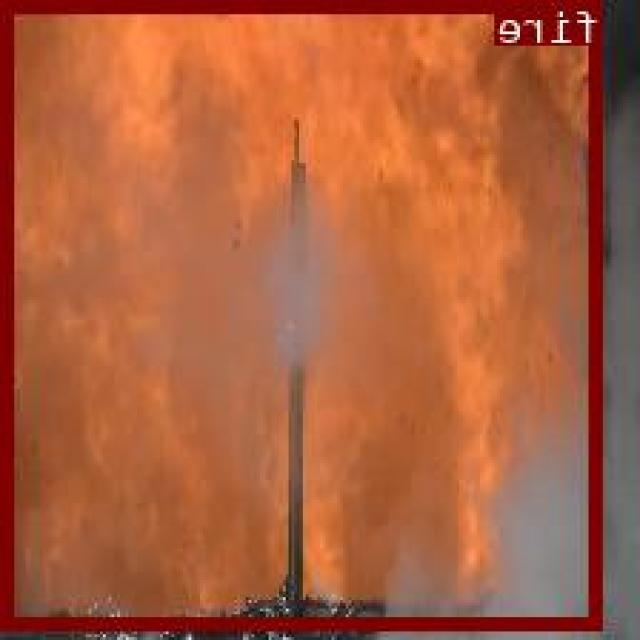fire: (6, 0, 603, 626)
